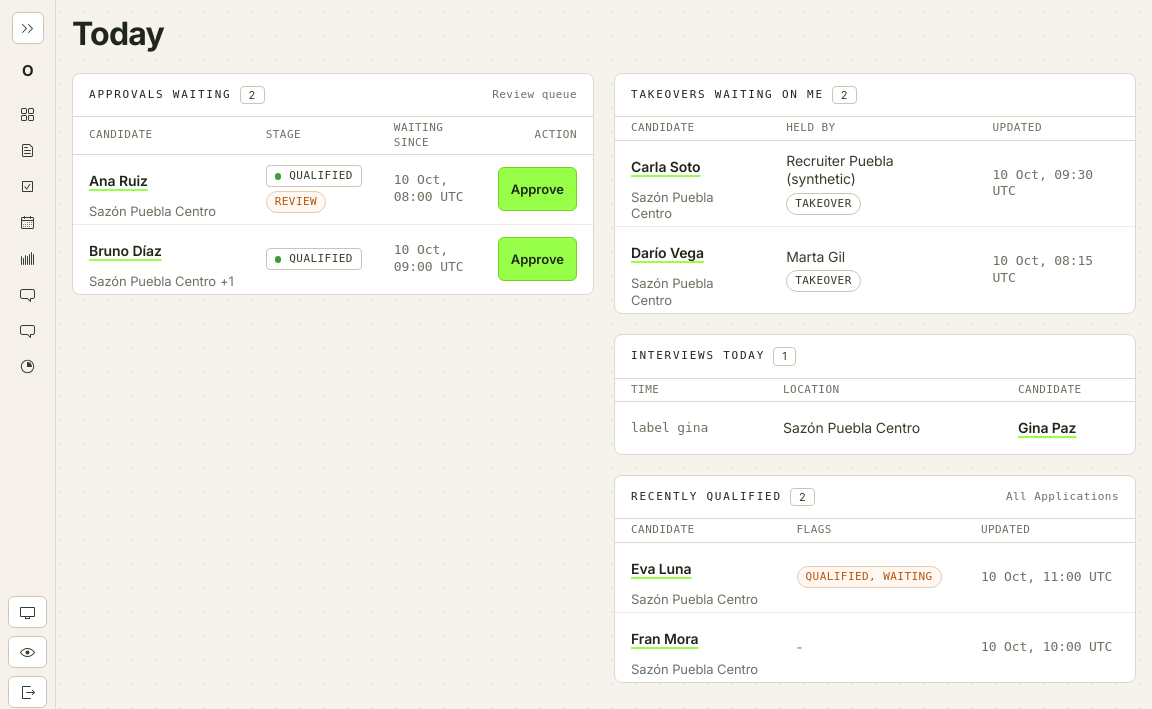
Scenario: Today: the page and its requests (RT1) › makes the same requests for an Operator who previews the Recruiter view
Expected: the link "Ana Ruiz" is shown, [89,172,148,189]
Expected: the link "Carla Soto" is shown, [631,158,700,174]
Click the button named "Preview as Recruiter".
click(28, 652)  # box [8,636,47,668]
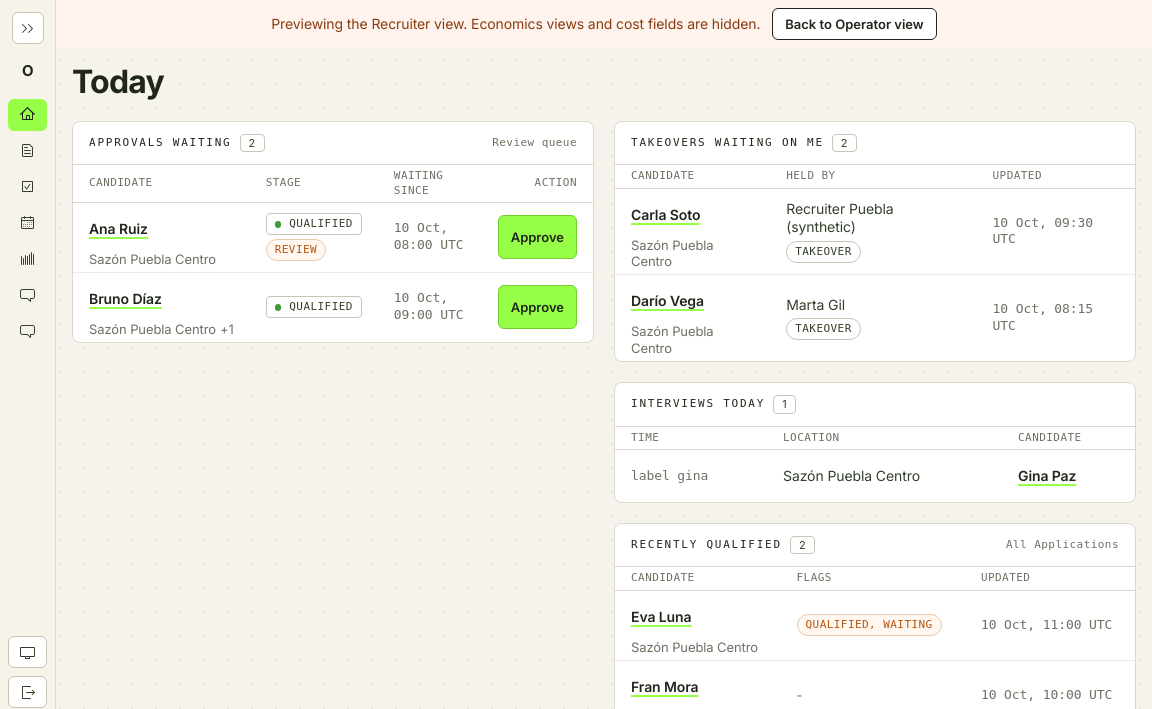
Expected: the text "Previewing the Recruiter view" is shown, [271,14,760,32]
